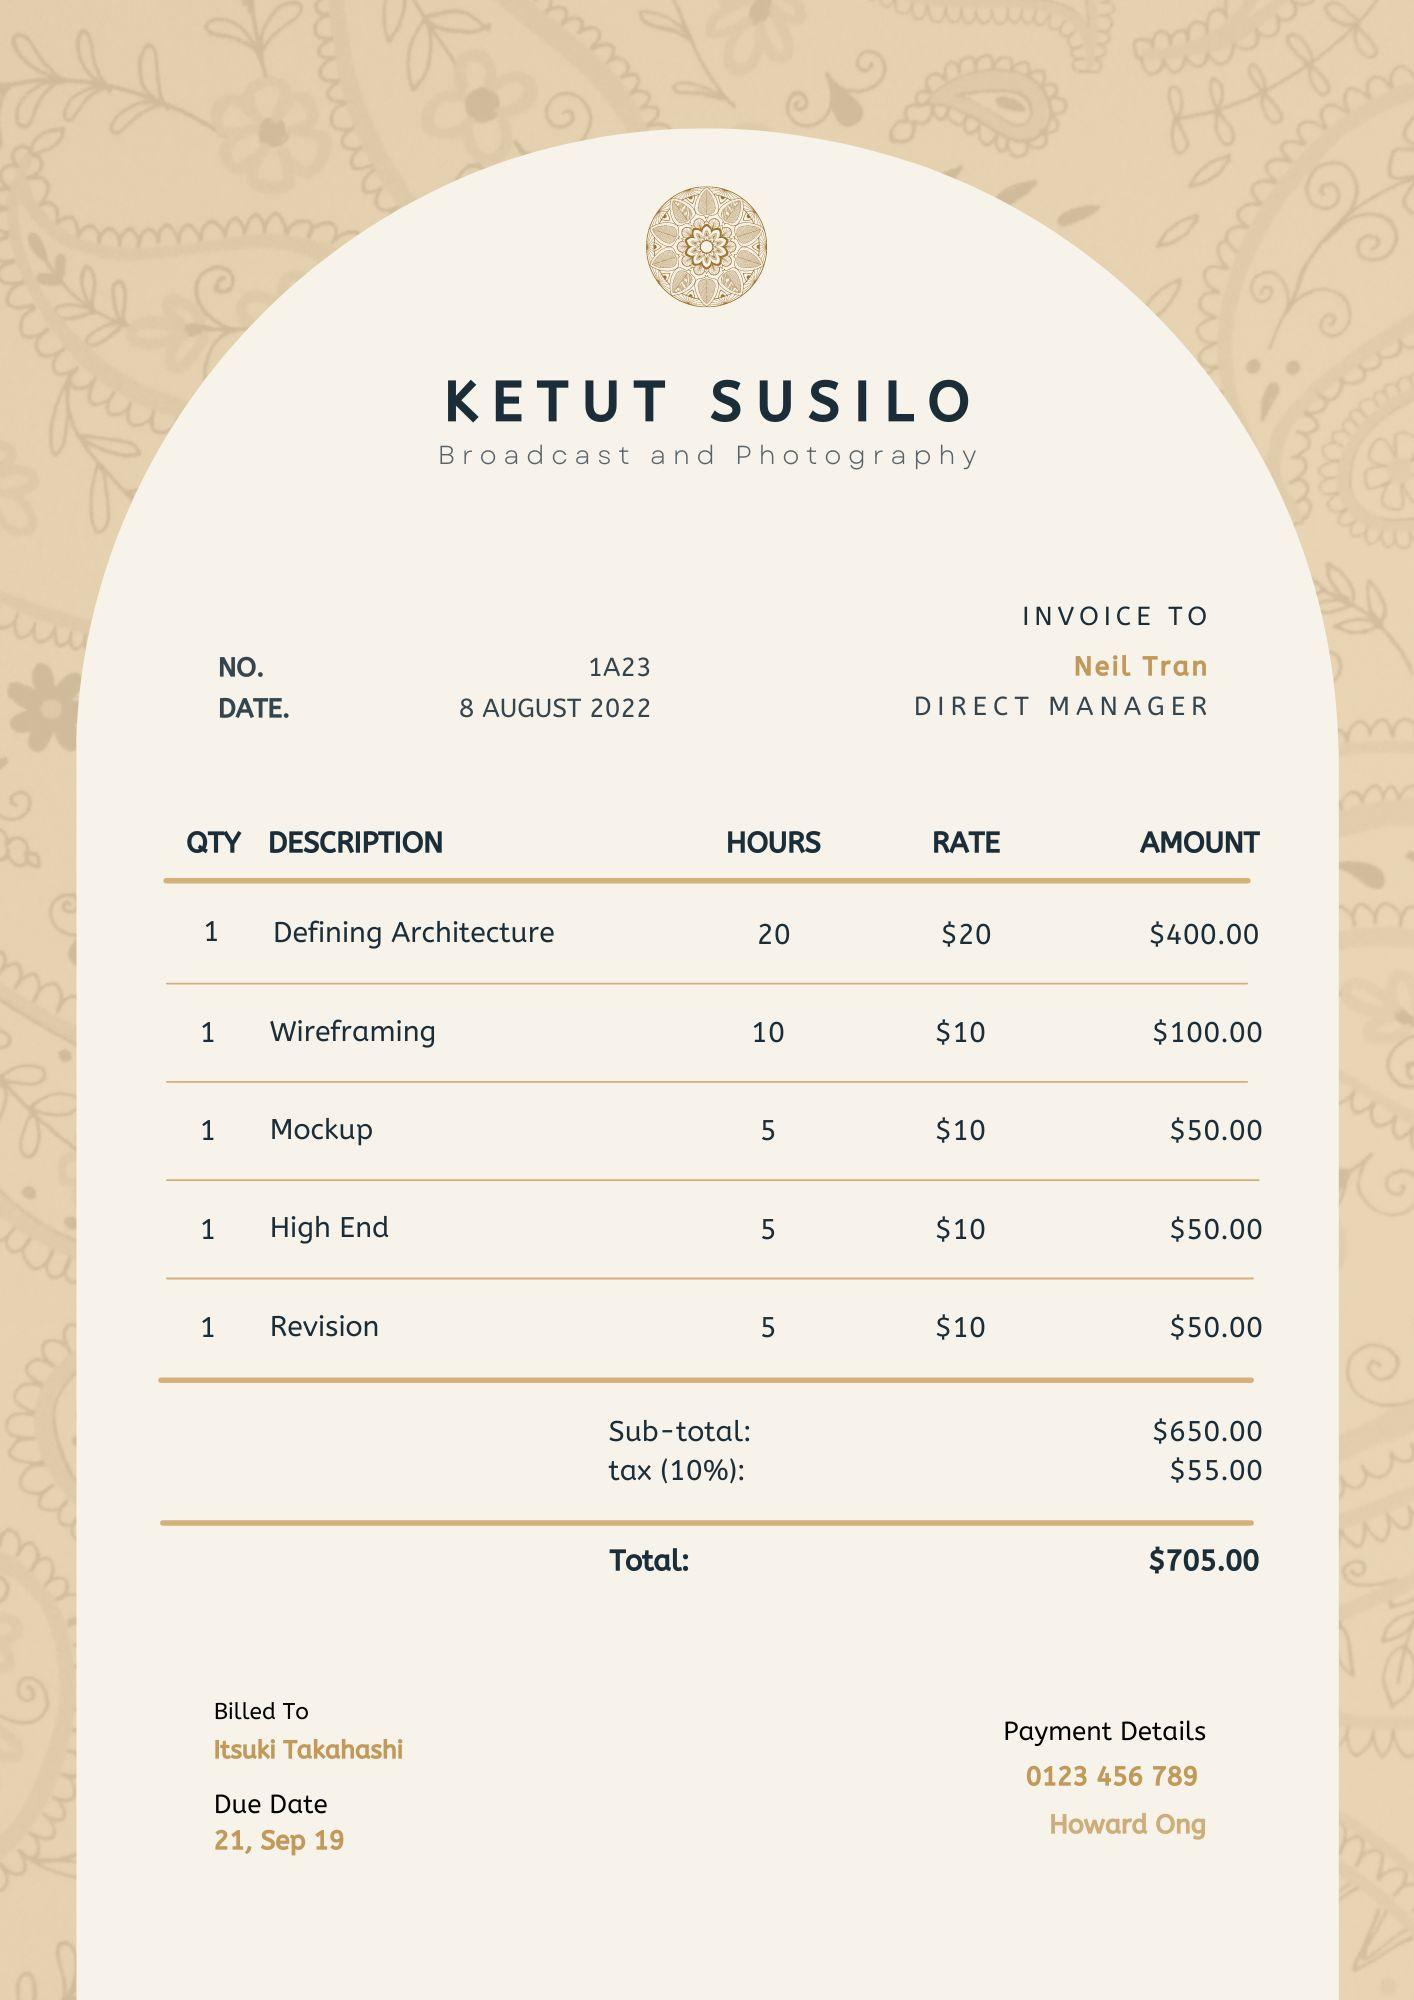ROI: (154, 797, 1272, 1532)
